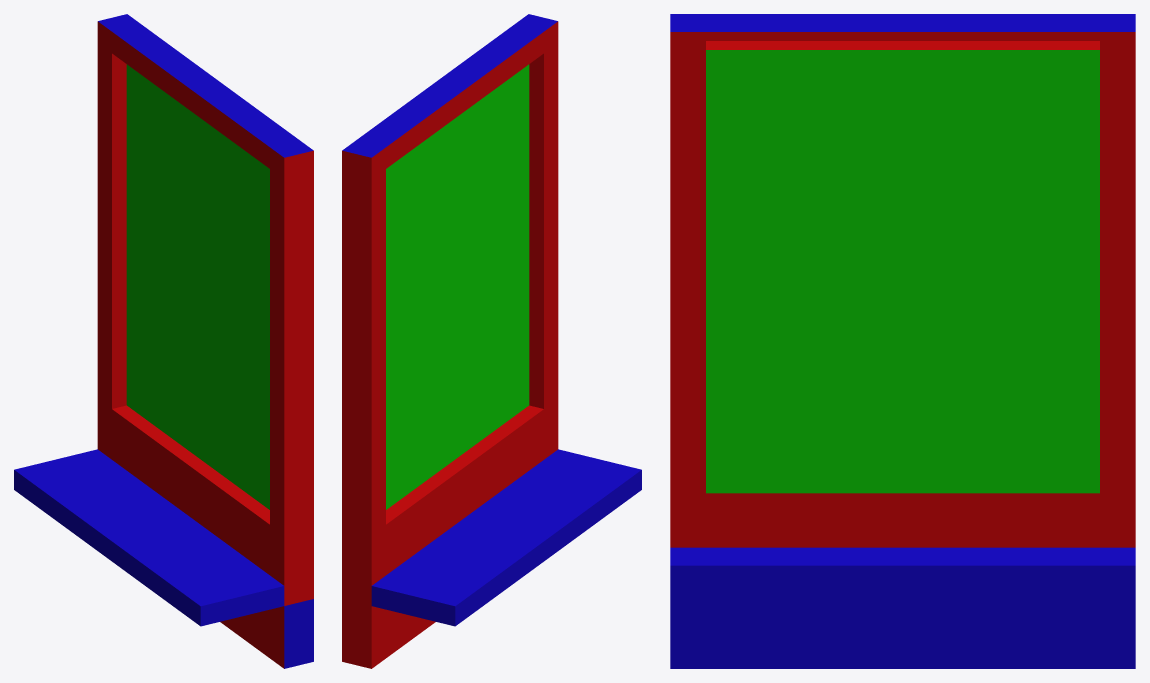
File: Mirror.fbx
The picture shows the model from 3 angles, left to right: view 1: azimuth 30°, elevation 25°; view 2: azimuth 150°, elevation 25°; view 3: azimuth 270°, elevation 25°; orthographic projection. The views are drawn at different scales.
Visible parts, largest first — view 1: Mirror; view 2: Mirror; view 3: Mirror.
Boxes of the visible parts, x1,y1,x2,y2 form: Mirror: (14, 14, 313, 668); Mirror: (342, 14, 641, 668); Mirror: (670, 14, 1135, 668).
Bounding box in the file's own units: 0.5936 × 2.56 × 1.7.
